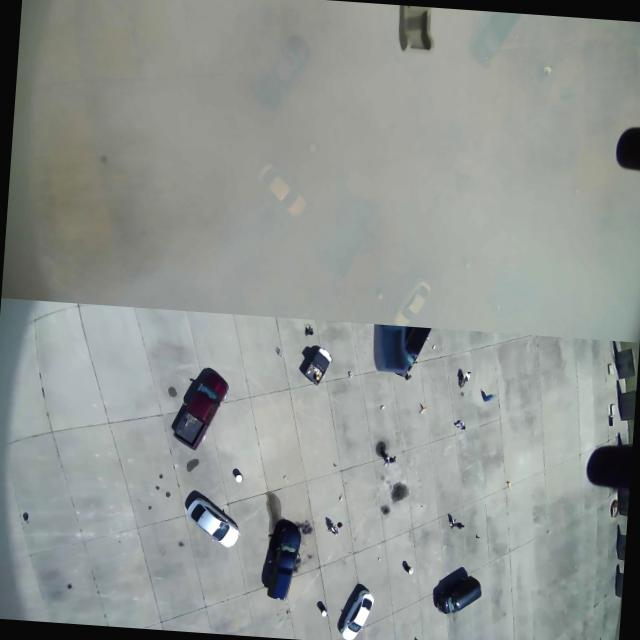car: (172, 354, 234, 456), (258, 35, 322, 121), (178, 486, 248, 555), (250, 155, 315, 221), (260, 509, 304, 605), (382, 326, 434, 384), (384, 268, 434, 326), (337, 573, 377, 640), (432, 564, 484, 614)
